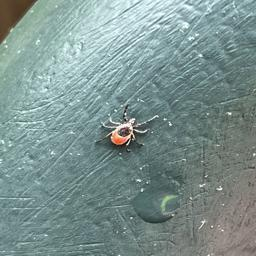Ixodes scapularis: (94, 104, 159, 149)
